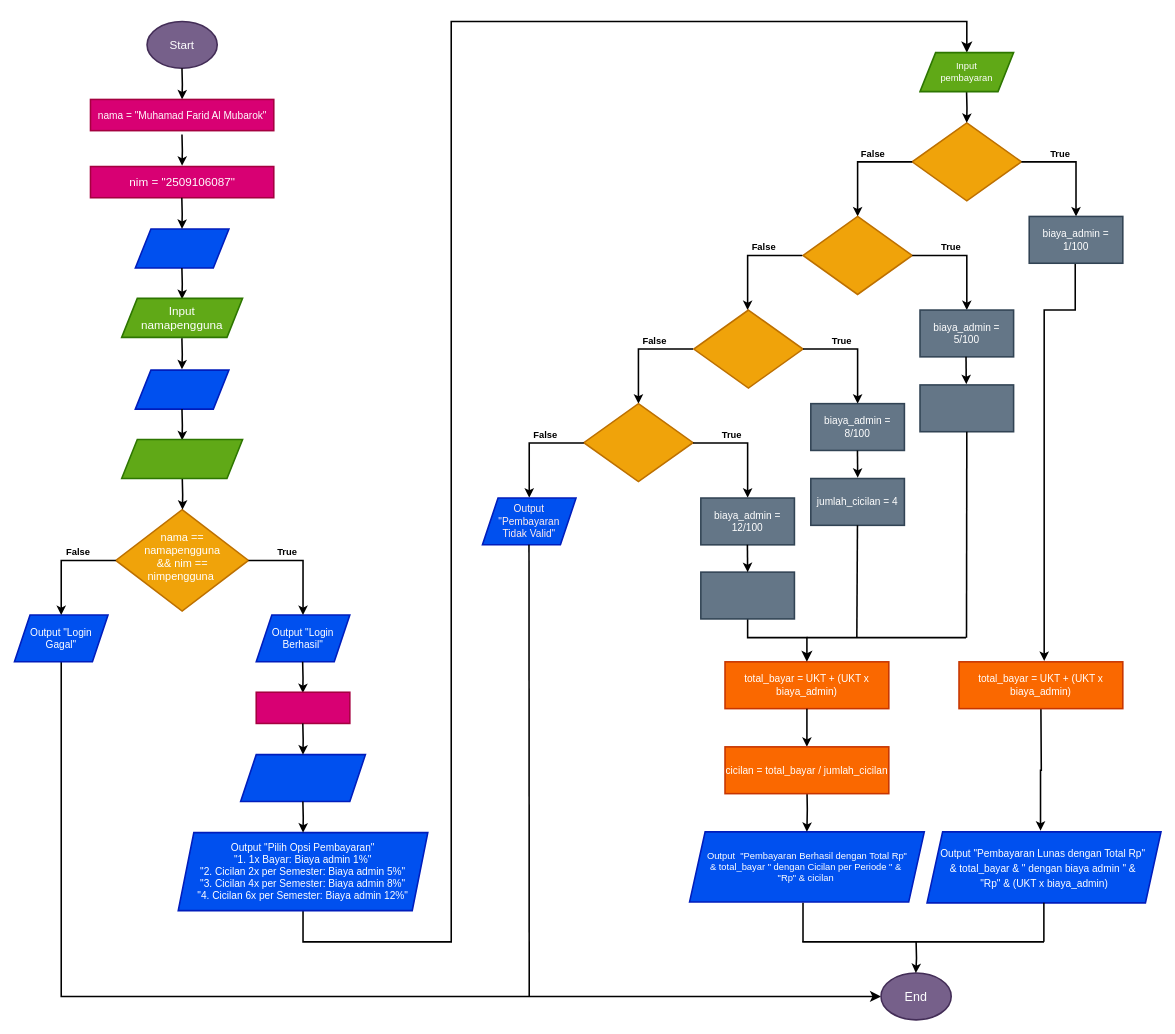
The diagram is 1175 pixels wide and 1034 high, and some of its shapes have lost their labels. The centre of each missing label's shape, as x and y in pixels:
Input nimpengguna: point 182,458
jumlah_cicilan = 2: point 966,408
jumlah_cicilan = 6: point 747,595
Output "Nama : ": point 181,248
Output "NIM : ": point 181,389
Output "Total UKT adalah Rp6.000.000": point 302,777
pembayaran == 1: point 966,161
pembayaran == 2: point 857,255
pembayaran == 3: point 748,348
pembayaran == 4: point 638,442
UKT = "6000000": point 302,707
